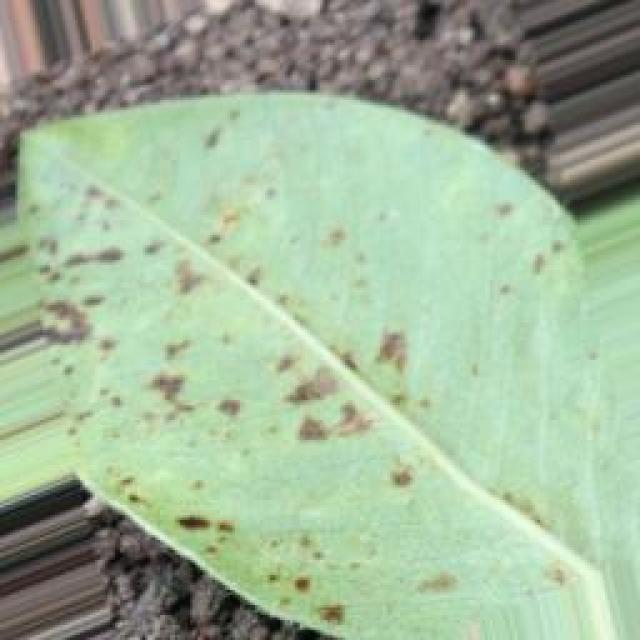Whitefly: (14, 82, 616, 632)
